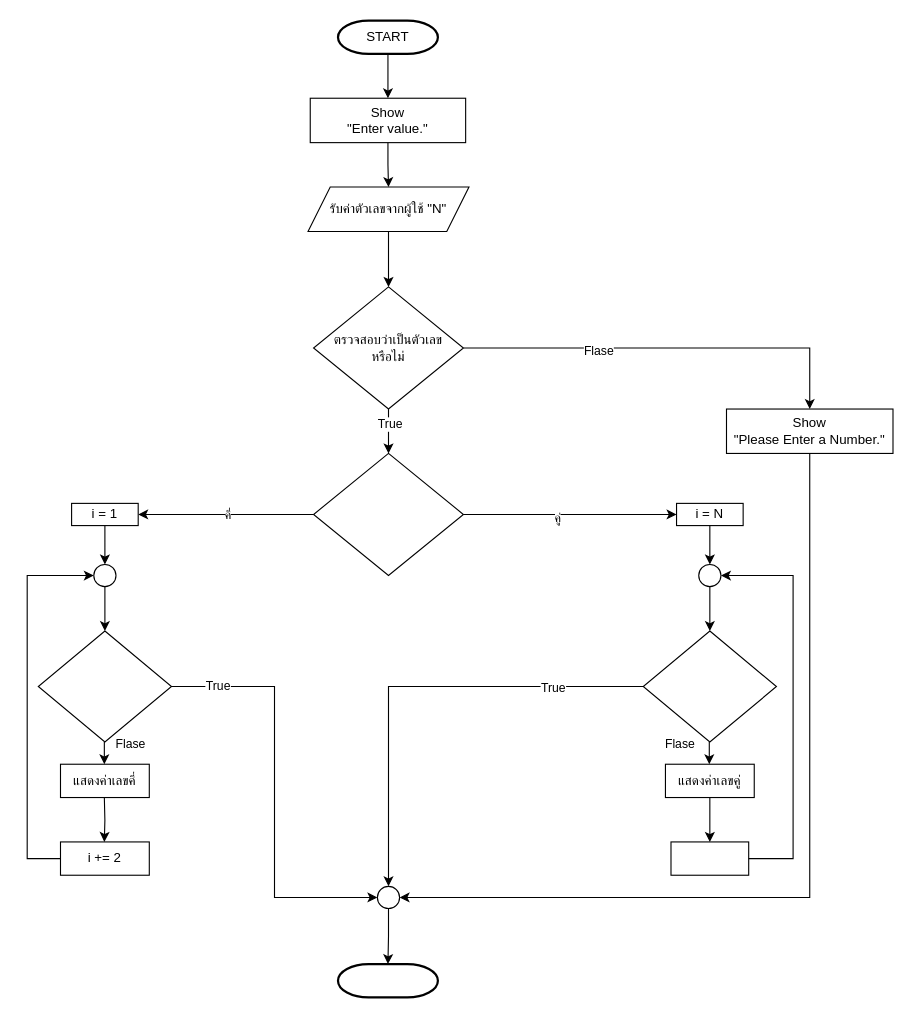
Some shapes in this 912 by 1017 pixel diagram are drawn without their labels. The shapes that lost their labels are listed below. From the top down, each one's box as (x1, y1, x2, y2) in pixels, then its label:
(312, 452, 463, 576): ตรวจสอบว่า N เป็นเลขคี่หรือเลขคู่
(37, 630, 171, 742): i <= N หรือไม่
(642, 630, 776, 742): i >= 0 หรือไม่
(670, 841, 749, 875): i -=2
(336, 962, 438, 998): STOP
